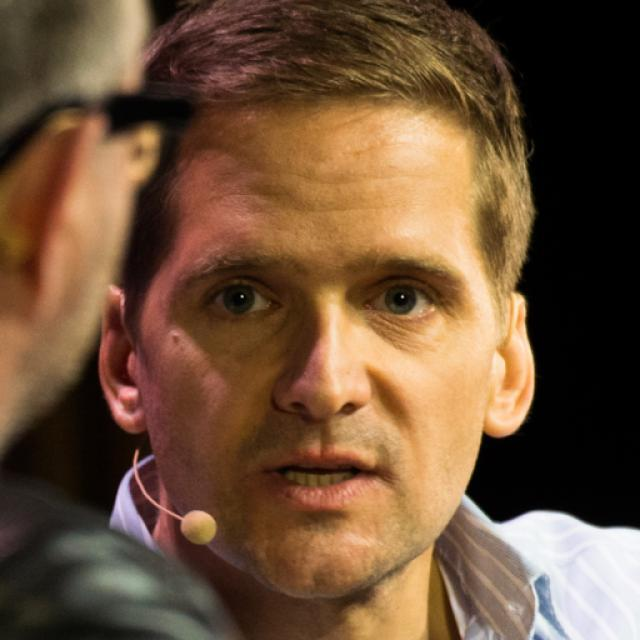surprise: (144, 82, 492, 598)
